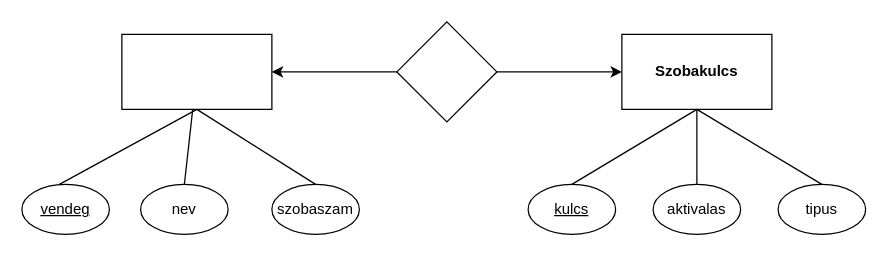
Some shapes in this 888 by 256 pixel diagram are drawn without their labels. The shapes that lost their labels are listed below. From the top down, each one's box as (x1, y1, x2, y2) in pixels, then its label:
(121, 33, 272, 109): Vendég
(396, 21, 497, 122): V-SZ
